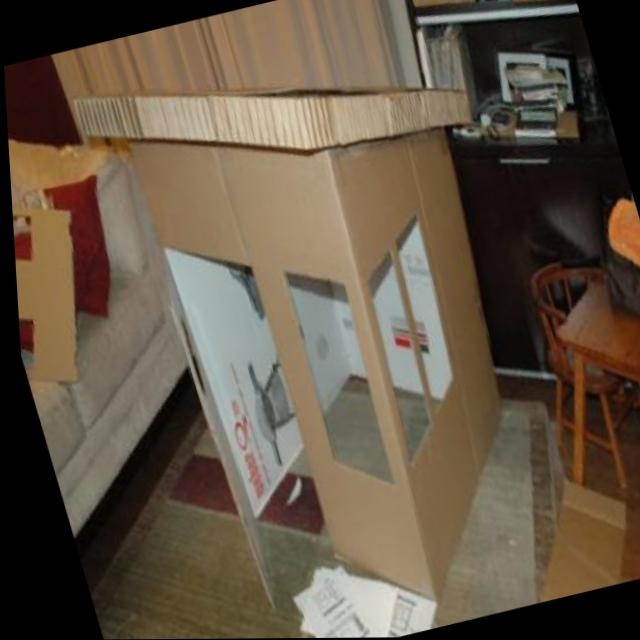box: (61, 0, 596, 640)
